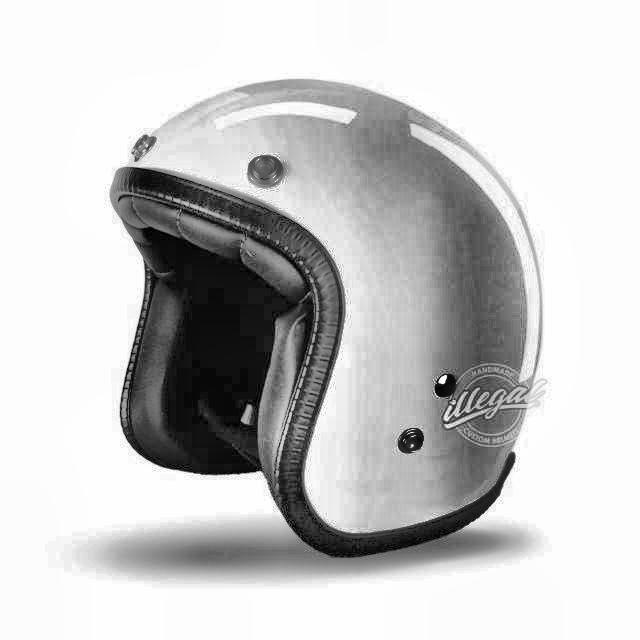Helmet: (94, 59, 554, 569)
